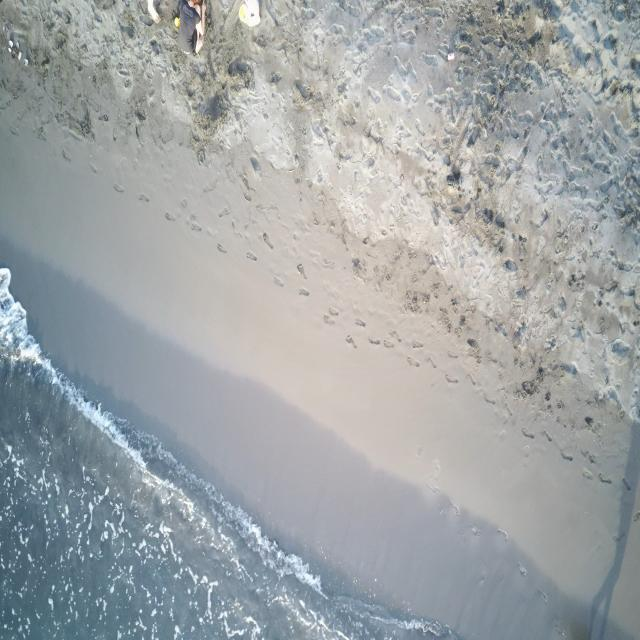tin-and-aluminum-cans: (446, 50, 456, 64)
